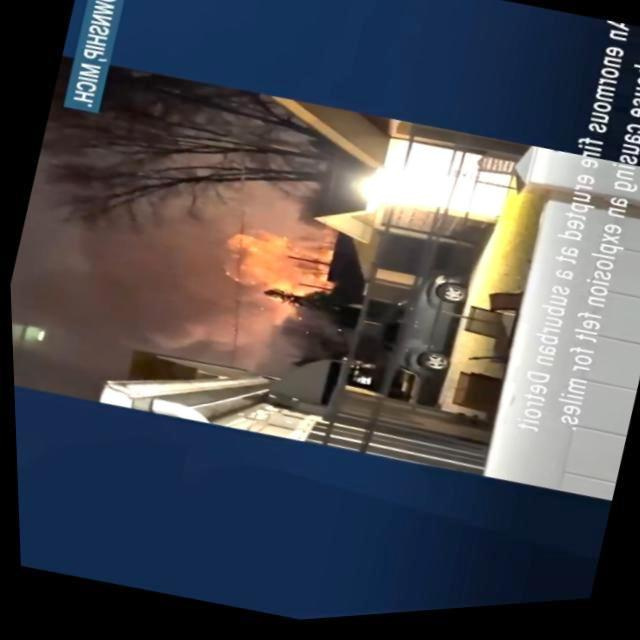fire: (254, 228, 334, 308)
